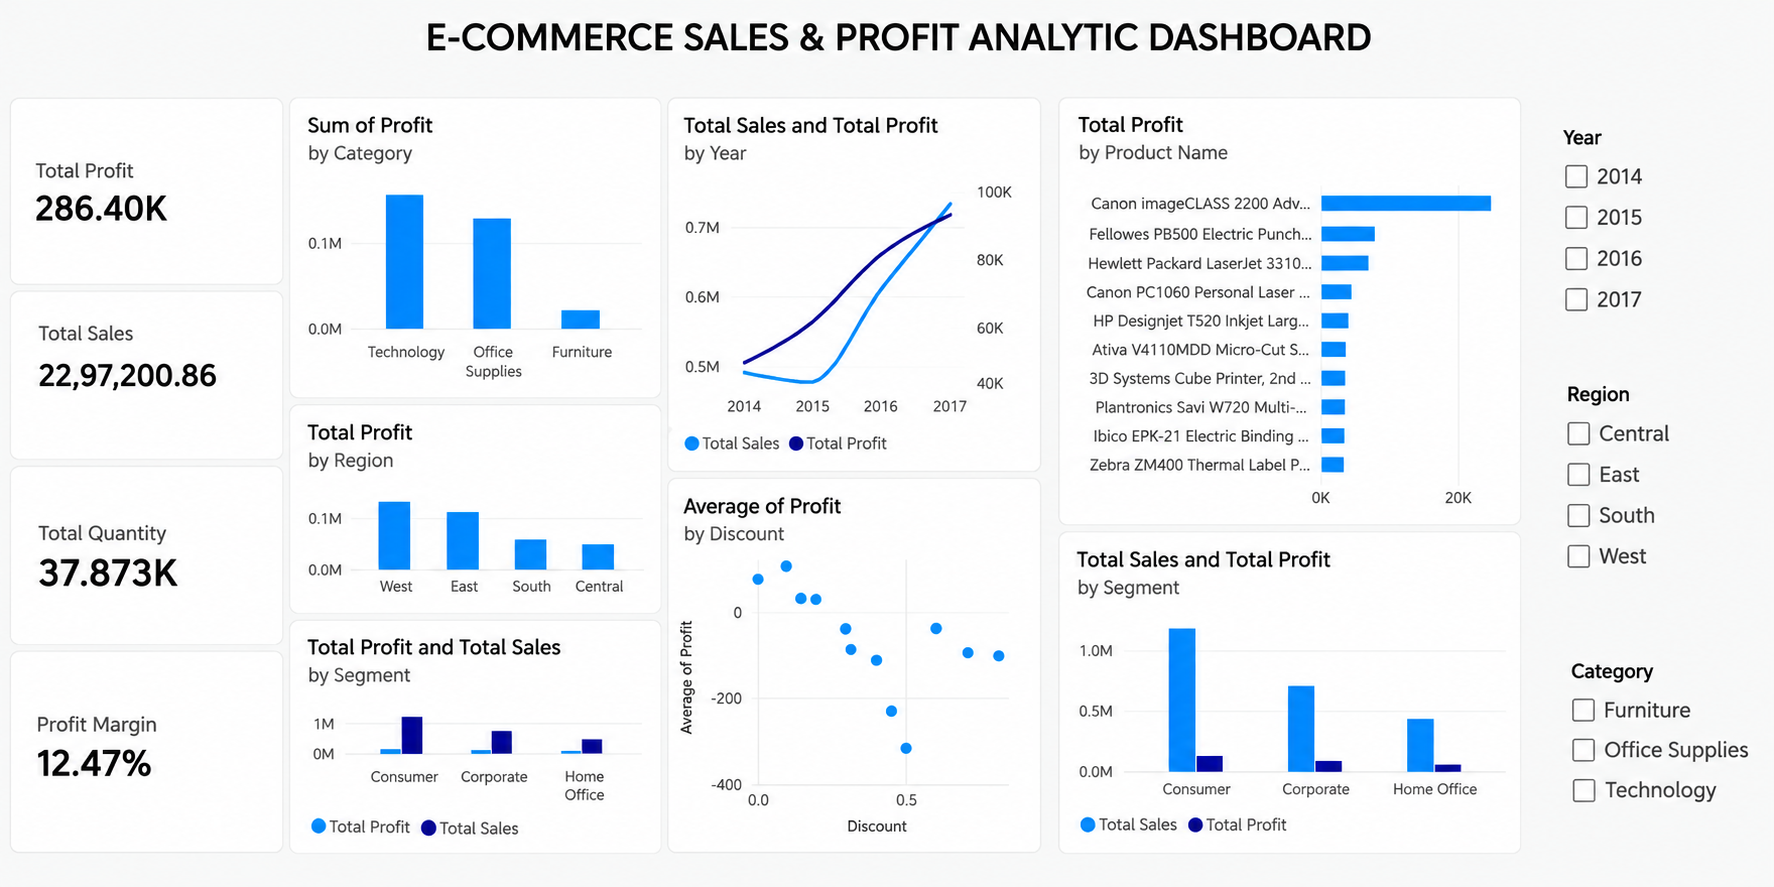

What the dashboard file says about the page in this screenshot:
{"tool":"powerbi","page":{"name":"Page 1","canvas":[1920,1080],"ordinal":0},"visuals":[{"type":"cardVisual","fields":{"Data":["Sample - Superstore.Total Profit"]},"box":[8.3,111.7,258.3,158.3],"z":0},{"type":"tableEx","fields":{"Values":["Sample - Superstore.Total Sales"]},"box":[10,275,256.7,186.7],"z":1},{"type":"cardVisual","fields":{"Data":["Sample - Superstore.Total Quantity"]},"box":[3.3,461.7,263.3,195],"z":2},{"type":"cardVisual","fields":{"Data":["Sample - Superstore.Profit Margin"]},"box":[0,653.3,266.7,161.7],"z":3},{"type":"lineChart","fields":{"Category":["Sample - Superstore.Order Date.Variation.Date Hierarchy.Year","Sample - Superstore.Order Date.Variation.Date Hierarchy.Quarter","Sample - Superstore.Order Date.Variation.Date Hierarchy.Month","Sample - Superstore.Order Date.Variation.Date Hierarchy.Day"],"Y":["Sample - Superstore.Total Sales"],"Y2":["Sample - Superstore.Total Profit"]},"box":[585,111.7,321.7,338.3],"z":4},{"type":"clusteredColumnChart","fields":{"Category":["Sample - Superstore.Category"],"Y":["Sum(Sample - Superstore.Profit)"]},"box":[266.7,111.7,318.3,280],"z":5},{"type":"clusteredColumnChart","fields":{"Category":["Sample - Superstore.Region"],"Y":["Sample - Superstore.Total Profit"]},"box":[266.7,391.7,318.3,206.7],"z":6},{"type":"clusteredColumnChart","fields":{"Category":["Sample - Superstore.Segment"],"Y":["Sample - Superstore.Total Profit","Sample - Superstore.Total Sales"]},"box":[266.7,598.3,318.3,216.7],"z":7},{"type":"clusteredBarChart","fields":{"Category":["Sample - Superstore.Product Name"],"Y":["Sample - Superstore.Total Profit"]},"box":[946.7,111.7,448.3,383.3],"z":8},{"type":"scatterChart","fields":{"X":["Sample - Superstore.Discount"],"Y":["Avg(Sample - Superstore.Profit)"]},"box":[585,450,321.7,365],"z":9},{"type":"clusteredColumnChart","fields":{"Category":["Sample - Superstore.Segment"],"Y":["Sample - Superstore.Total Sales","Sample - Superstore.Total Profit"]},"box":[946.7,495,448.3,320],"z":10},{"type":"slicer","fields":{"Values":["Sample - Superstore.Order Date.Variation.Date Hierarchy.Year"]},"box":[1460,150,375,203.3],"z":11},{"type":"slicer","fields":{"Values":["Sample - Superstore.Region"]},"box":[1460,361.7,375,236.7],"z":12},{"type":"slicer","fields":{"Values":["Sample - Superstore.Category"]},"box":[1460,618.3,375,196.7],"z":13},{"type":"textbox","box":[461.7,20,970,115],"z":14}]}

Visuals, with their boxes on the page's 1920x1080 design canvas (x1, y1, x2, y2). These are canvas units, not pixel positions in the 1774x887 screenshot, which may show the page scaled, cropped or inside an application window:
cardVisual - Sample - Superstore.Total Profit: [x1=8, y1=112, x2=267, y2=270]
tableEx - Sample - Superstore.Total Sales: [x1=10, y1=275, x2=267, y2=462]
cardVisual - Sample - Superstore.Total Quantity: [x1=3, y1=462, x2=267, y2=657]
cardVisual - Sample - Superstore.Profit Margin: [x1=0, y1=653, x2=267, y2=815]
lineChart - Sample - Superstore.Order Date.Variation.Date Hierarchy.Year x Sample - Superstore.Order Date.Variation.Date Hierarchy.Quarter: [x1=585, y1=112, x2=907, y2=450]
clusteredColumnChart - Sample - Superstore.Category x Sum(Sample - Superstore.Profit): [x1=267, y1=112, x2=585, y2=392]
clusteredColumnChart - Sample - Superstore.Region x Sample - Superstore.Total Profit: [x1=267, y1=392, x2=585, y2=598]
clusteredColumnChart - Sample - Superstore.Segment x Sample - Superstore.Total Profit: [x1=267, y1=598, x2=585, y2=815]
clusteredBarChart - Sample - Superstore.Product Name x Sample - Superstore.Total Profit: [x1=947, y1=112, x2=1395, y2=495]
scatterChart - Sample - Superstore.Discount x Avg(Sample - Superstore.Profit): [x1=585, y1=450, x2=907, y2=815]
clusteredColumnChart - Sample - Superstore.Segment x Sample - Superstore.Total Sales: [x1=947, y1=495, x2=1395, y2=815]
slicer - Sample - Superstore.Order Date.Variation.Date Hierarchy.Year: [x1=1460, y1=150, x2=1835, y2=353]
slicer - Sample - Superstore.Region: [x1=1460, y1=362, x2=1835, y2=598]
slicer - Sample - Superstore.Category: [x1=1460, y1=618, x2=1835, y2=815]
textbox: [x1=462, y1=20, x2=1432, y2=135]
